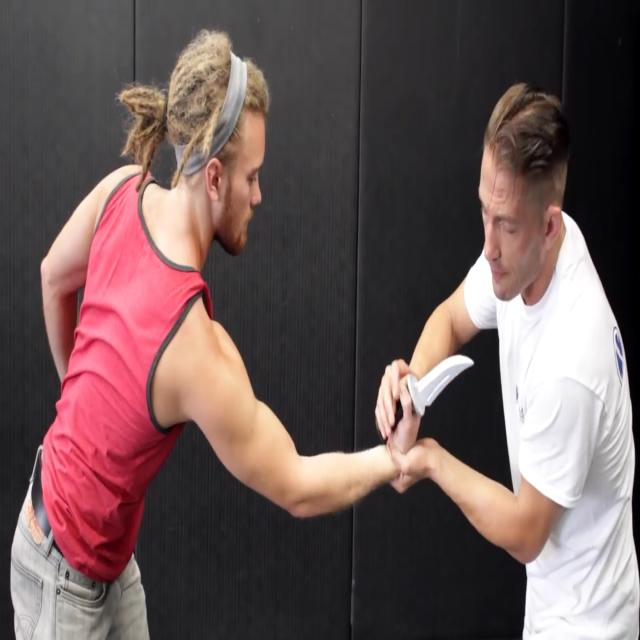knife: (409, 352, 481, 423)
